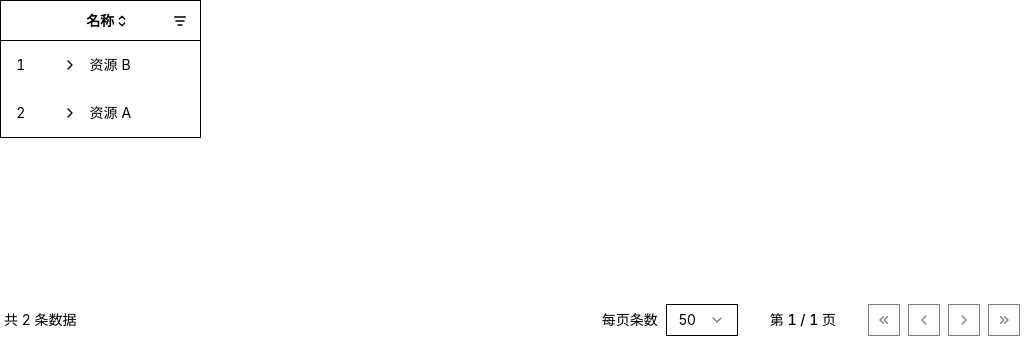
Test: 按需挂载独立子表，主表不虚拟化，子表复制不会复制父表
expect the text "张三" is not shown: met
Click the button named "展开 资源 A".
click(70, 113)  # box [56,99,84,127]
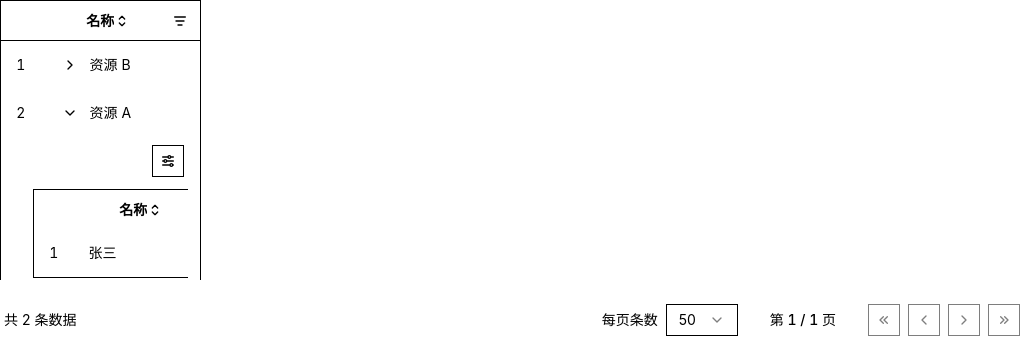
expect the text "张三" is shown: met, box [88,244,116,261]
Click the button named "收起 资源 A".
click(70, 113)  # box [56,99,84,127]
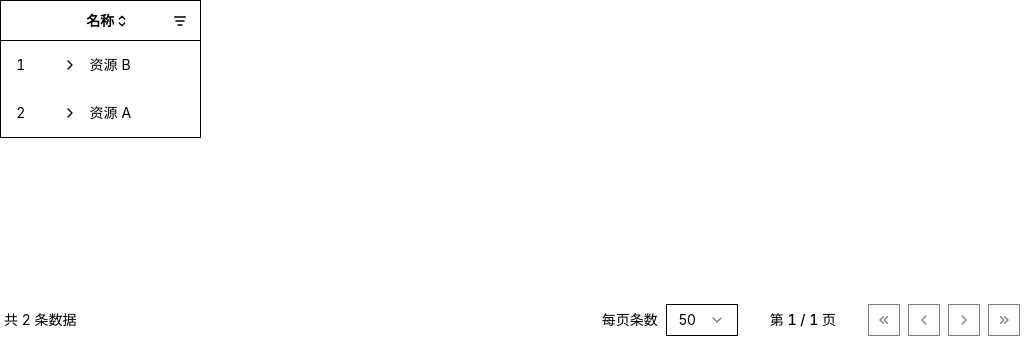
expect the text "张三" is gone: met
